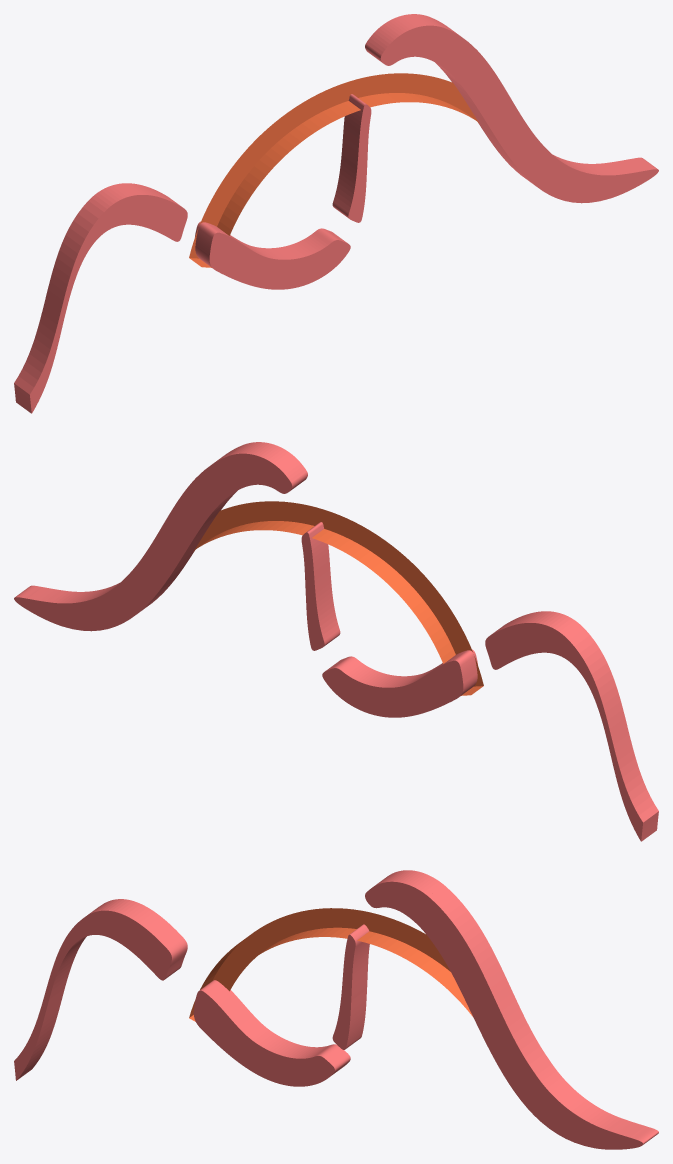
Rendered from add_arch_red.glb.
The picture shows the model from 3 angles, top to bottom: view 1: azimuth 30°, elevation 25°; view 2: azimuth 150°, elevation 25°; view 3: azimuth 330°, elevation 25°; orthographic projection.
Parts seen in each view (by area): view 1: shape_03, virtual_arch_red, shape_00, shape_01, shape_02; view 2: shape_03, virtual_arch_red, shape_00, shape_01, shape_02; view 3: shape_03, virtual_arch_red, shape_00, shape_01, shape_02.
Boxes of the visible parts, left/top/right/bottom form: shape_03: left=365, top=14, right=658, bottom=203; virtual_arch_red: left=189, top=73, right=479, bottom=267; shape_00: left=14, top=183, right=187, bottom=413; shape_01: left=195, top=221, right=350, bottom=289; shape_02: left=332, top=94, right=371, bottom=222; shape_03: left=14, top=442, right=307, bottom=631; virtual_arch_red: left=193, top=501, right=483, bottom=695; shape_00: left=485, top=611, right=658, bottom=841; shape_01: left=322, top=649, right=477, bottom=717; shape_02: left=301, top=522, right=340, bottom=650; shape_03: left=365, top=870, right=658, bottom=1149; virtual_arch_red: left=189, top=908, right=472, bottom=1021; shape_00: left=14, top=899, right=187, bottom=1080; shape_01: left=193, top=980, right=350, bottom=1086; shape_02: left=332, top=924, right=369, bottom=1049.
Size of the model in its own units: 6.9 by 3.06 by 0.3.
